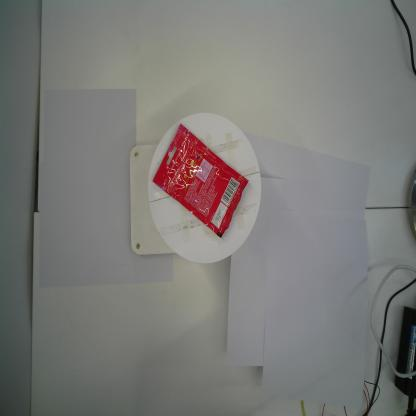Candy: (152, 122, 250, 239)
